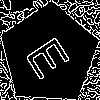E: (24, 29, 79, 82)
